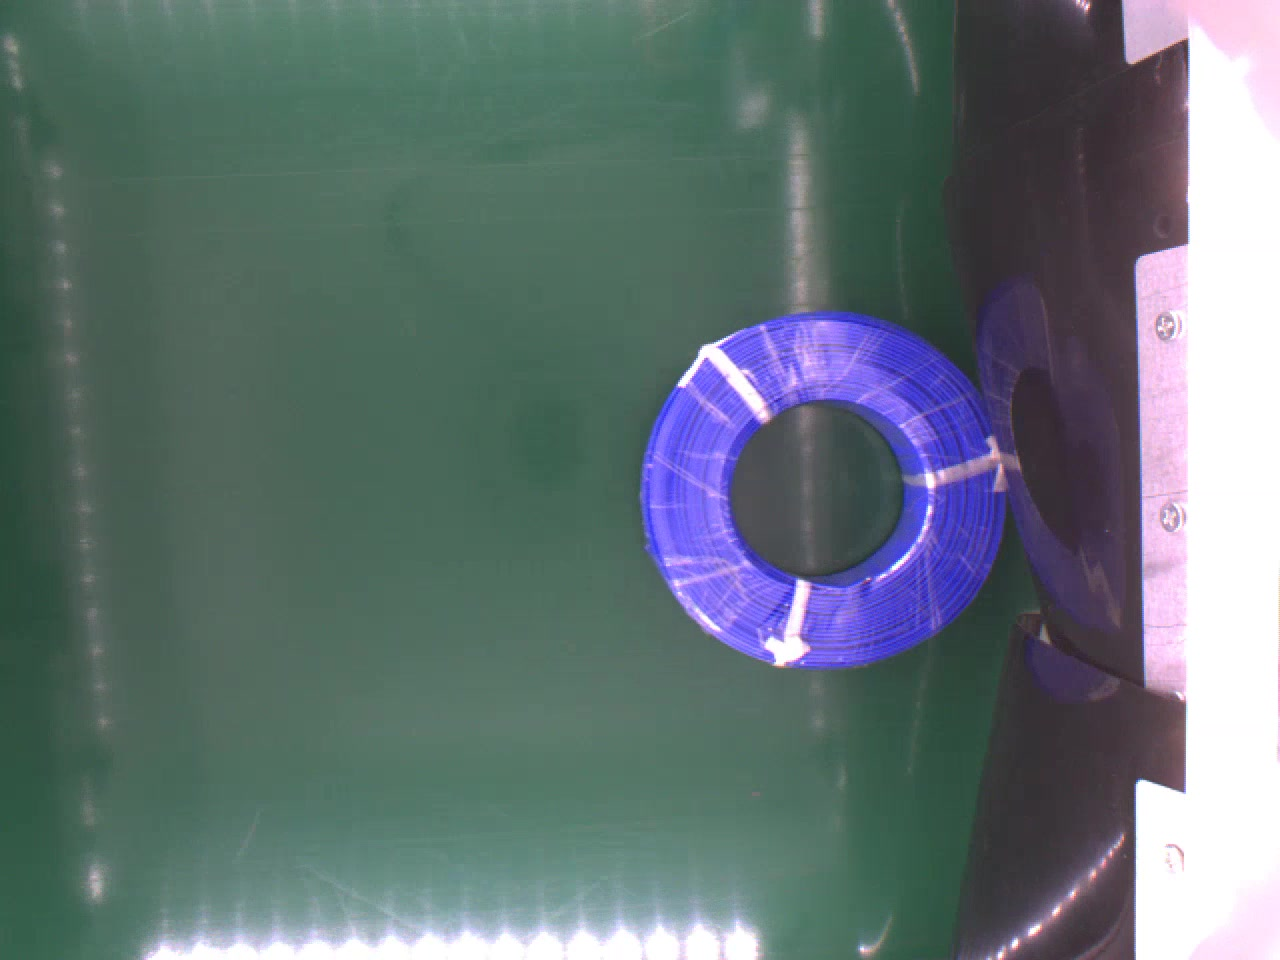blue: (644, 311, 1005, 673)
